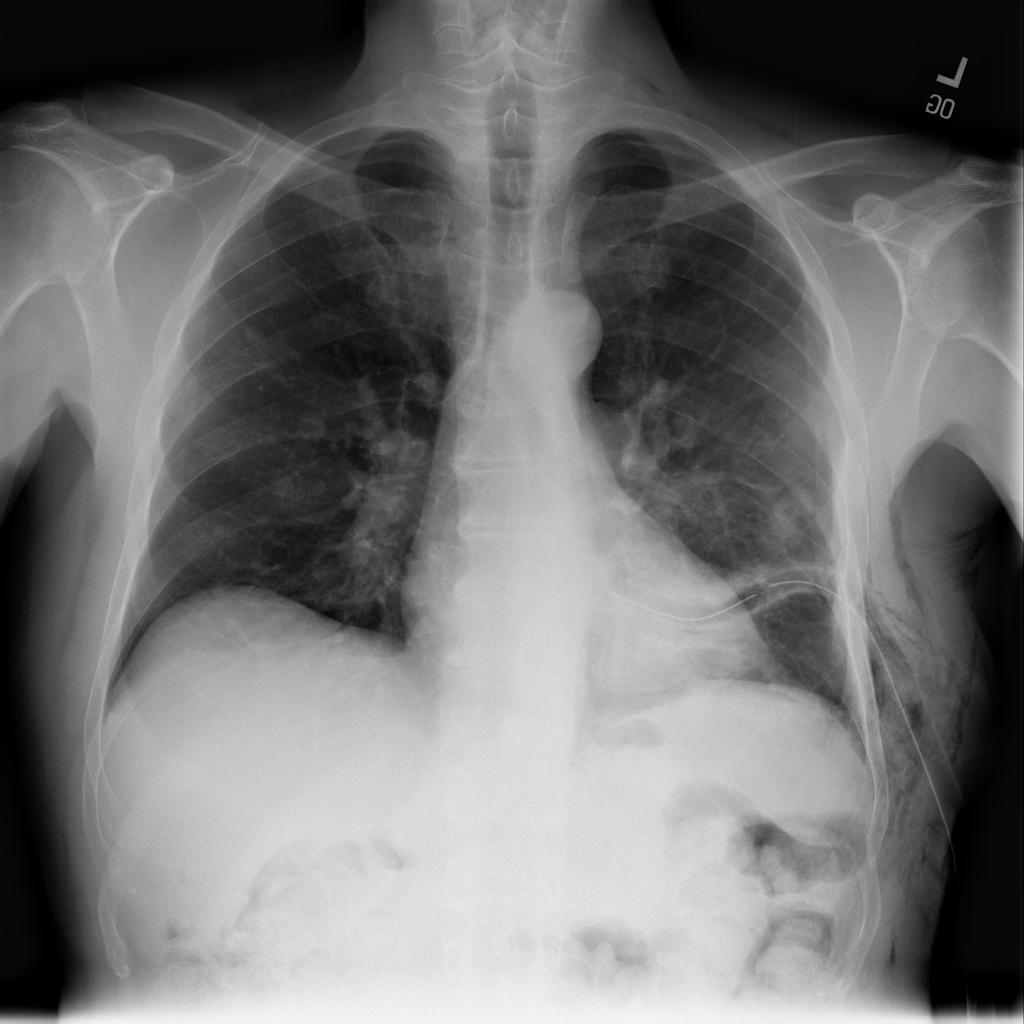nodule: (752, 478, 825, 554), (286, 398, 338, 450), (254, 459, 305, 510)
